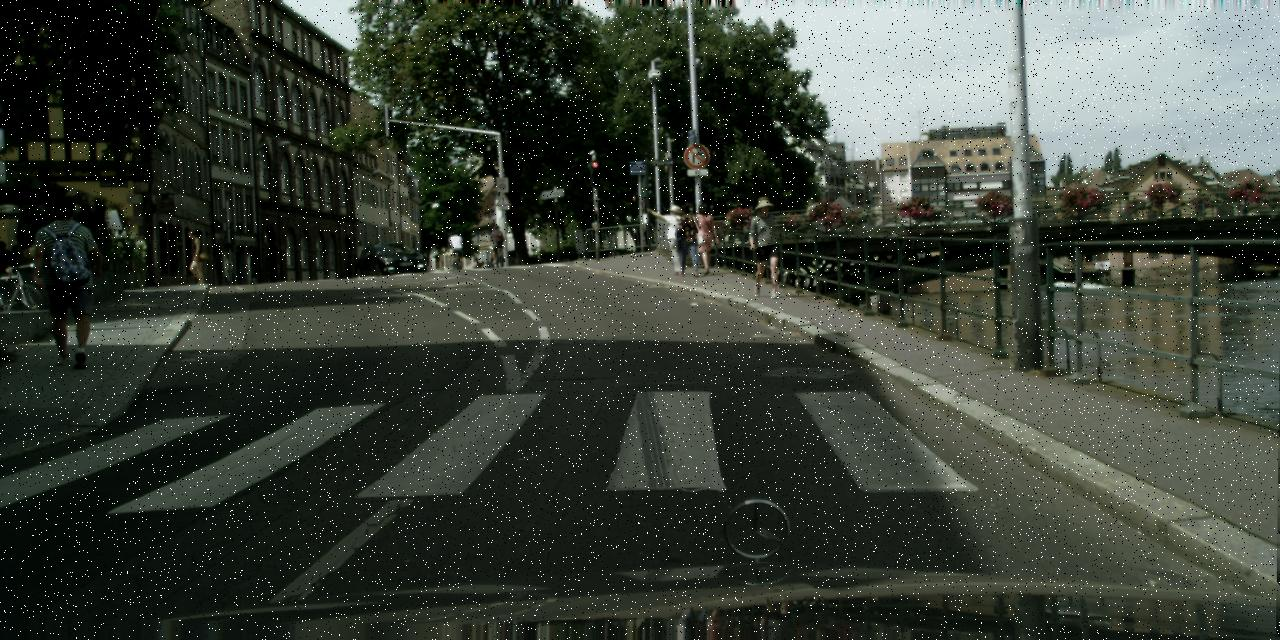ped: (32, 196, 102, 368), (744, 196, 785, 296), (689, 202, 719, 276), (672, 204, 701, 276), (661, 204, 690, 275), (185, 229, 207, 284), (490, 223, 504, 260), (450, 233, 462, 266)
